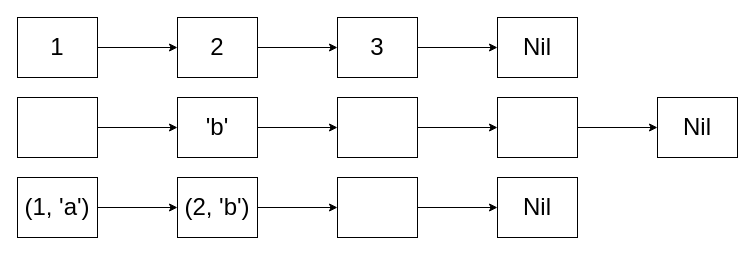
This 755x255 diagram has some shape labels left out. Here are the shapes that lost their labels. From the top down, the centre of each, then its label:
(57,127): 'a'
(377,127): 'c'
(537,127): 'd'
(377,207): (3, 'c')
